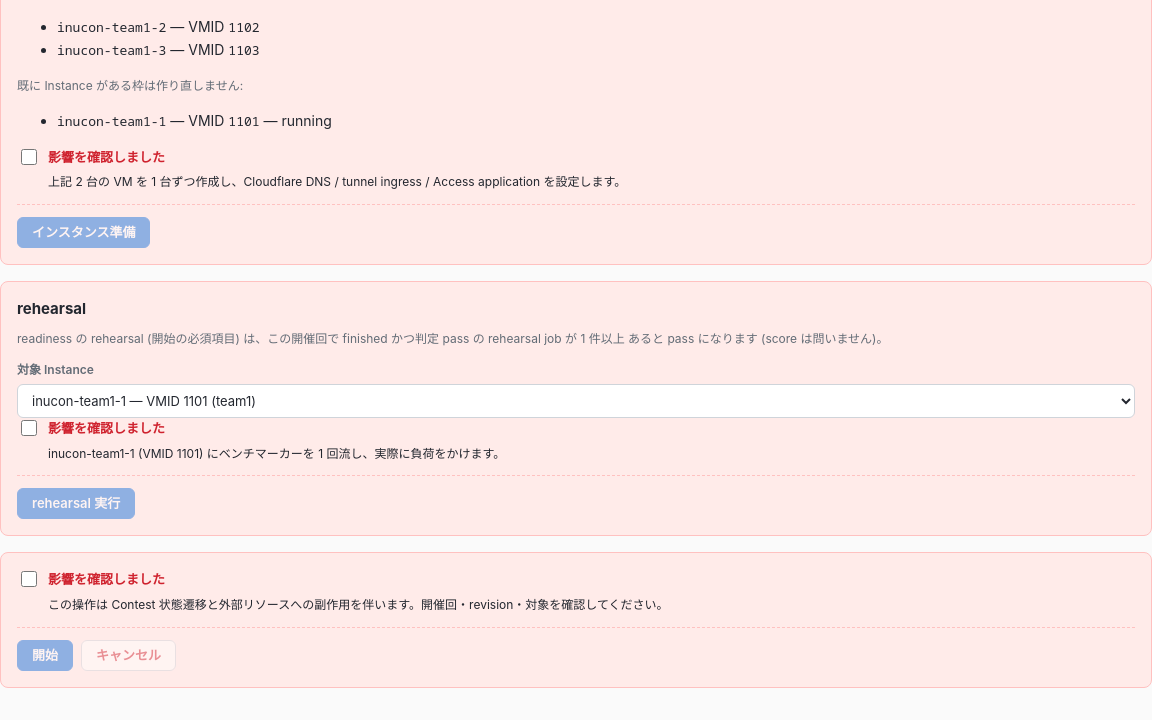
Test: ContestAdmin › Overview の rehearsal › RehearsalInstanceNotRunning で拒否されたらそれと分かる文言を出す
The image size is (1152, 720).
(page scrolled)
What coordinates should you click on to do the following:
click the 2nd checkbox
I would click on:
 (29, 428)
Its box is x1=21 y1=420 x2=37 y2=436.
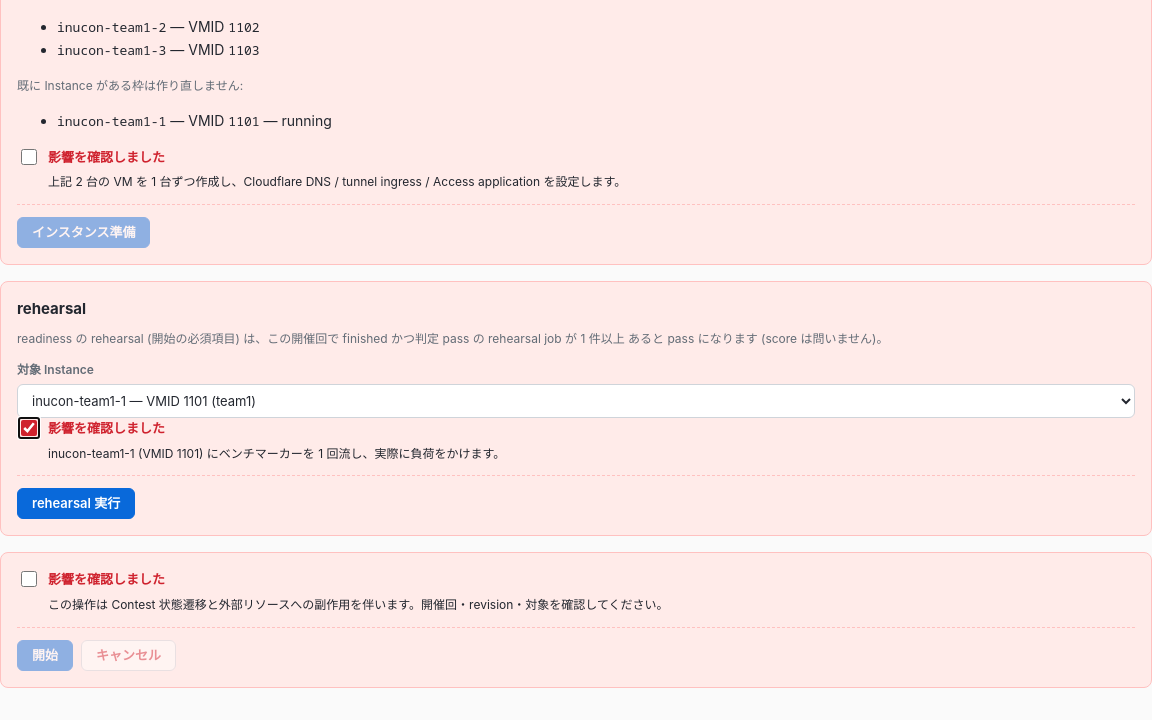
What coordinates should you click on to do the following:
click the button "rehearsal 実行"
I would click on:
 (76, 504)
Its box is x1=17 y1=488 x2=135 y2=519.
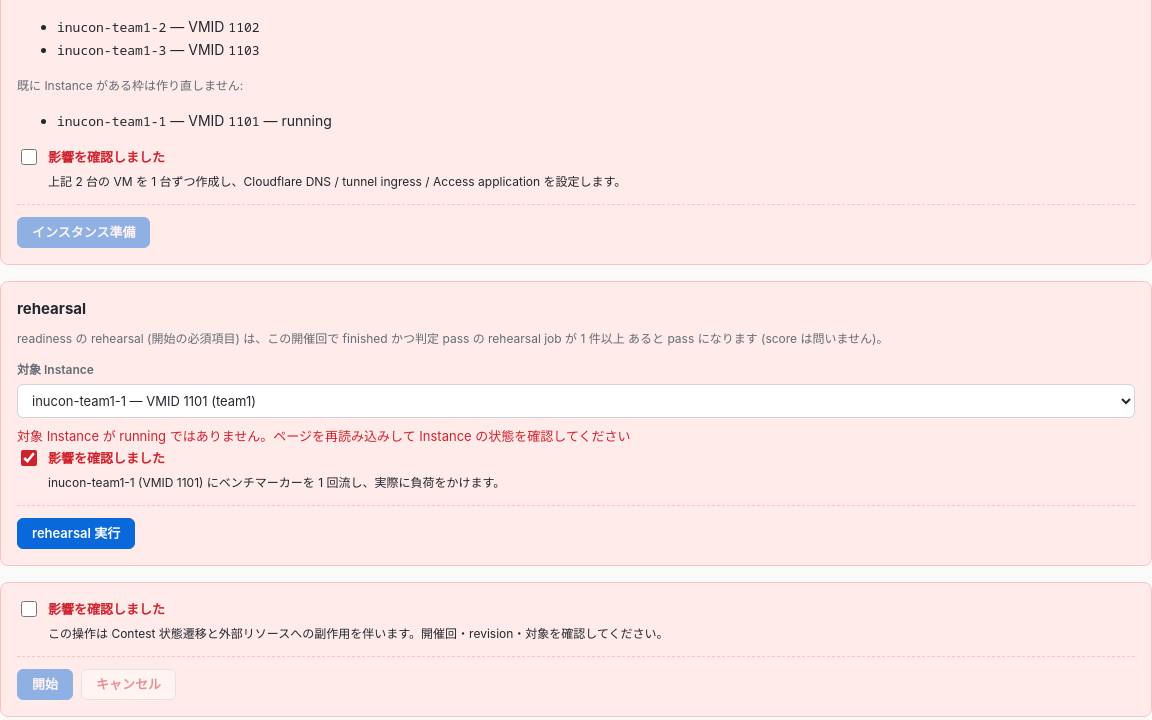
Check: the message shows "running ではありません", box x1=17 y1=428 x2=630 y2=444
